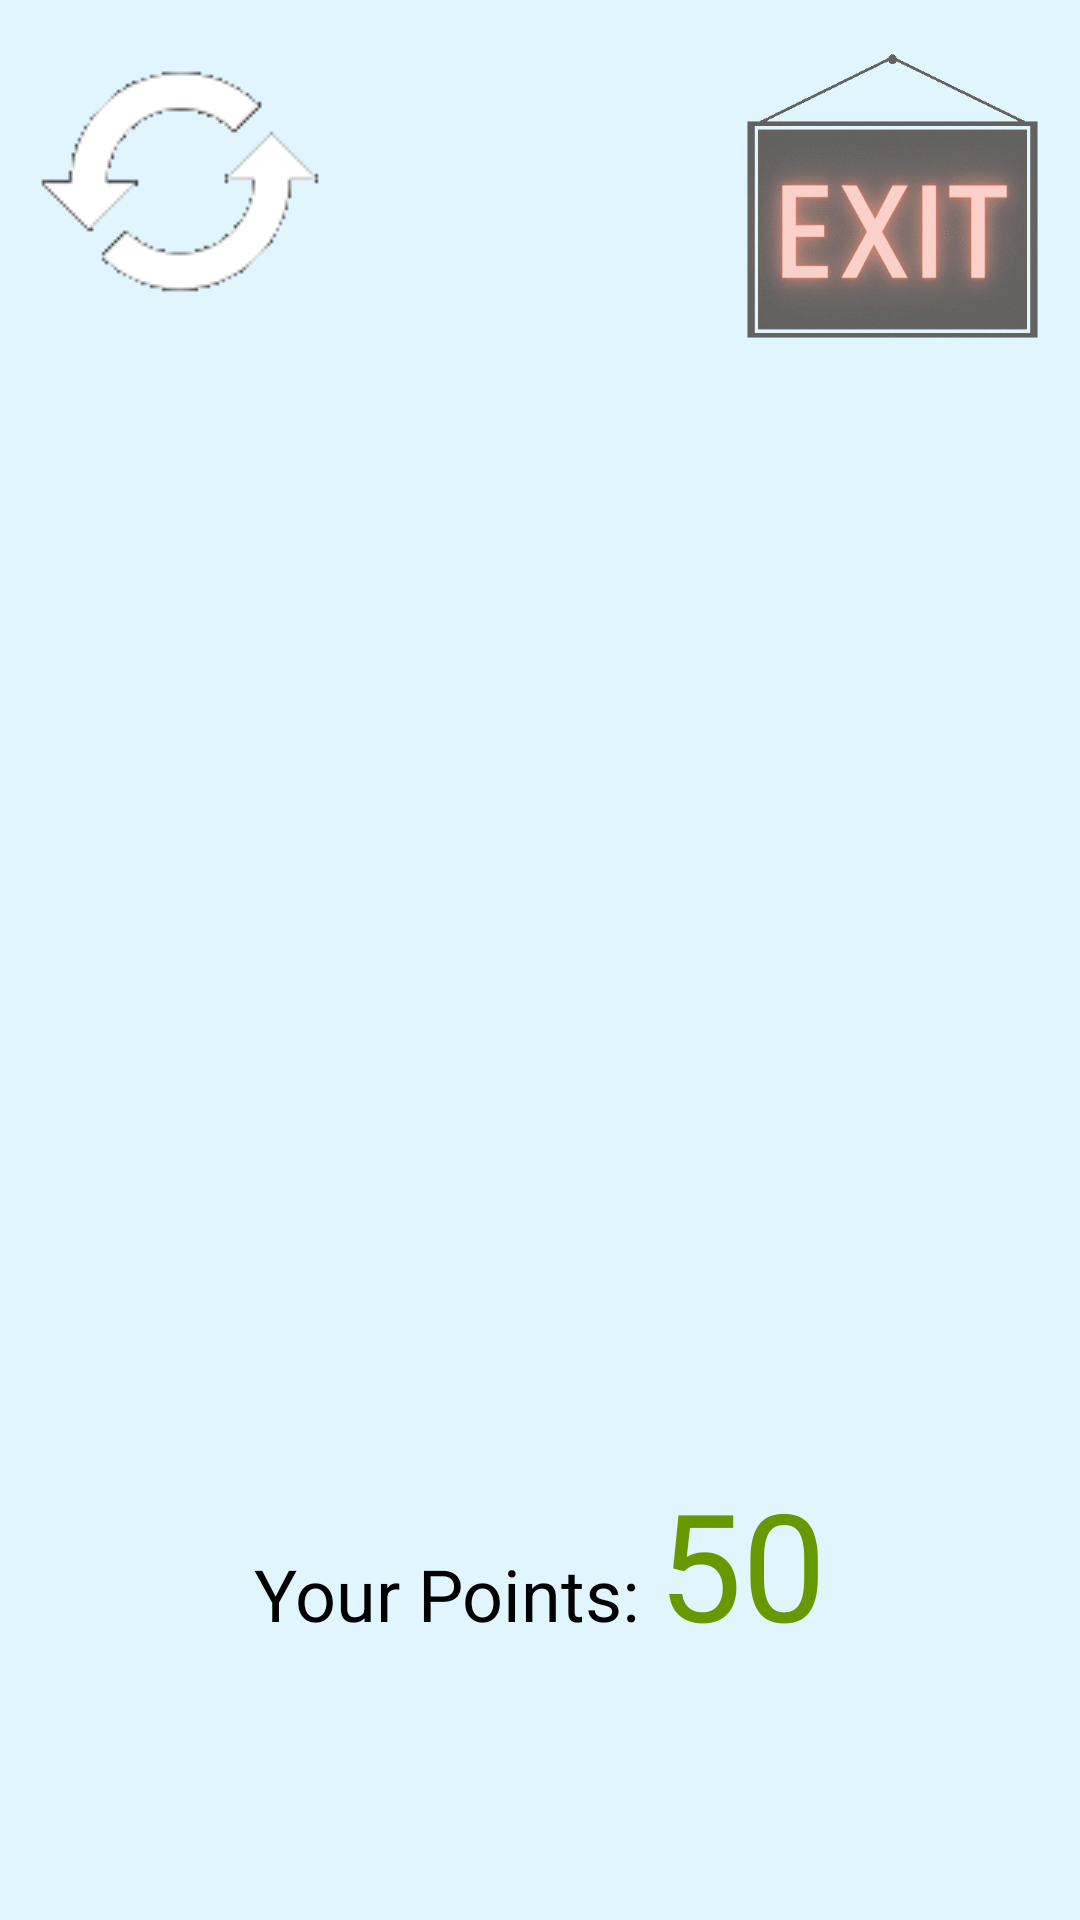

Icon bounding boxes for this 1080px x 1920px phone screenshot, format (x1=x1, y1=y1, x2=x2, y2=y2):
restart: (x1=41, y1=71, x2=319, y2=292)
